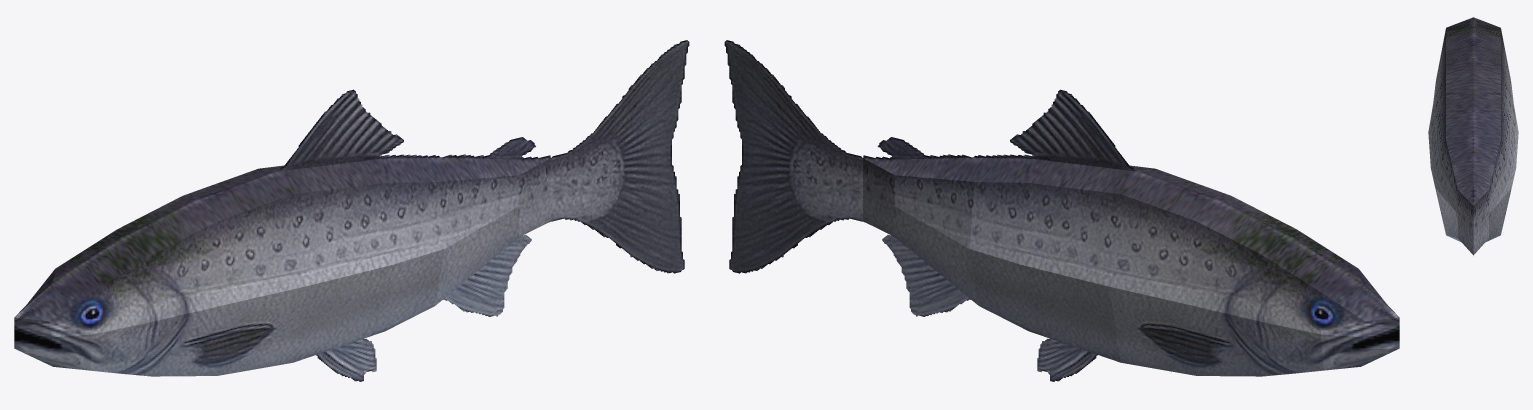
File: Frostgill.fbx
The picture shows the model from 3 angles, left to right: view 1: azimuth 30°, elevation 25°; view 2: azimuth 150°, elevation 25°; view 3: azimuth 270°, elevation 25°; orthographic projection. The views are drawn at different scales.
Parts seen in each view (by area): view 1: Salmon; view 2: Salmon; view 3: Salmon.
Part boxes in pixels (bbox=[...]): Salmon: bbox=[14, 40, 689, 381]; Salmon: bbox=[724, 40, 1399, 381]; Salmon: bbox=[1428, 17, 1518, 255].
Bounding box in the file's own units: 123 × 59.51 × 18.09.
1 material, 1 textured.
